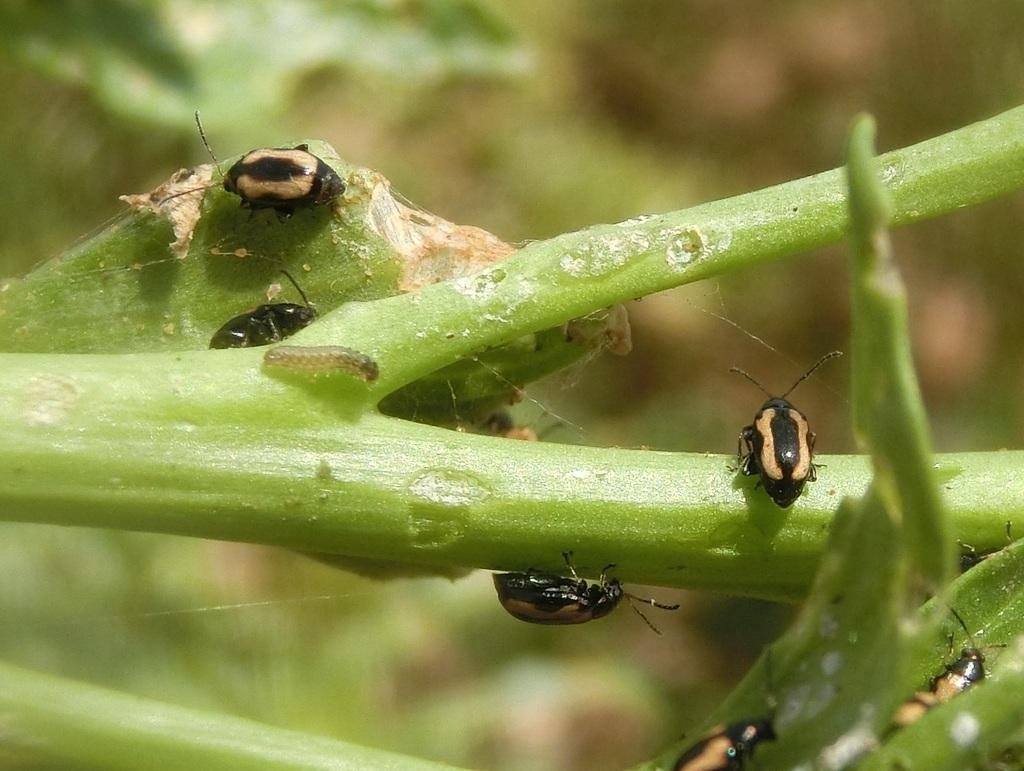flea_beetle: (136, 86, 361, 255), (692, 332, 862, 524), (476, 532, 686, 666)
